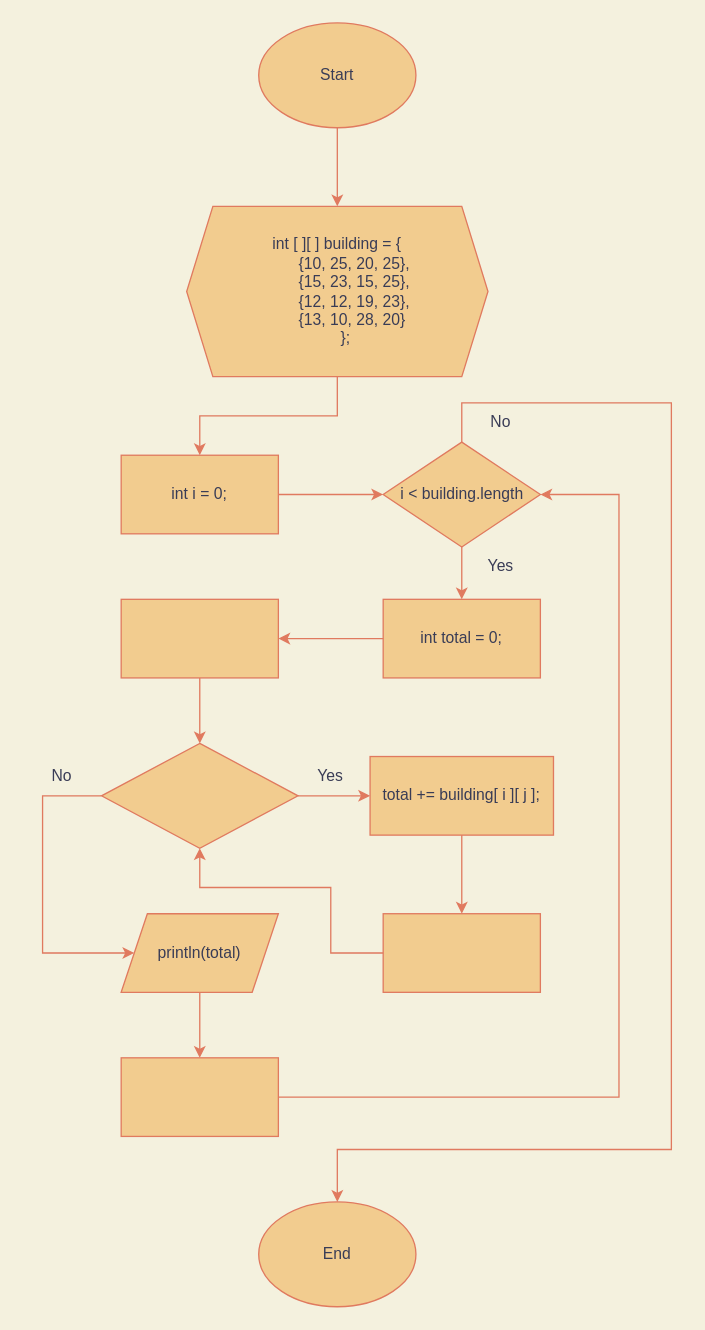
The diagram is 705 pixels wide and 1330 high, and some of its shapes have lost their labels. The centre of each missing label's shape, as x and y in pixels:
i++: (x=199, y=1096)
int j = 0;: (x=199, y=638)
j < building[ i ].length: (x=199, y=795)
j++: (x=461, y=952)
